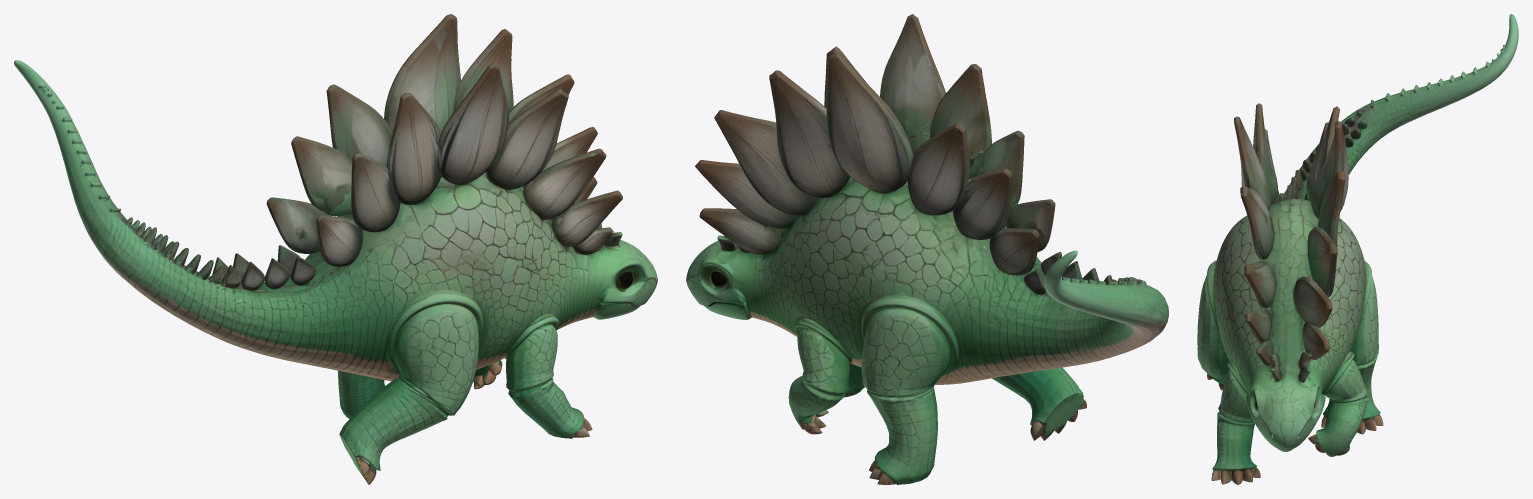
The model's file is din.glb.
3 renders of one model, left to right at view 1: azimuth 30°, elevation 25°; view 2: azimuth 150°, elevation 25°; view 3: azimuth 270°, elevation 25°, orthographic. The views are drawn at different scales.
Parts seen in each view (by area): view 1: texture_pbr_v128; view 2: texture_pbr_v128; view 3: texture_pbr_v128.
Boxes of the visible parts, x1=… form: texture_pbr_v128: x1=14, y1=14, x2=657, y2=484; texture_pbr_v128: x1=686, y1=14, x2=1168, y2=484; texture_pbr_v128: x1=1197, y1=14, x2=1518, y2=484.
Bounding box in the file's own units: 0.9183 × 0.6668 × 0.583.
Materials: 1 (1 with a texture image).
